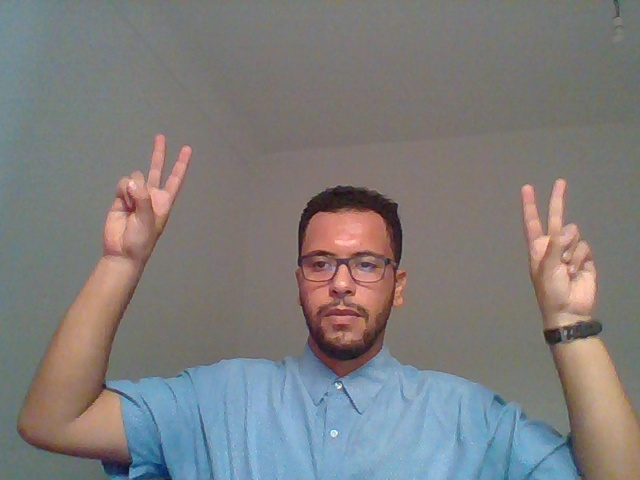vectory: (505, 154, 623, 476), (74, 116, 196, 382)
